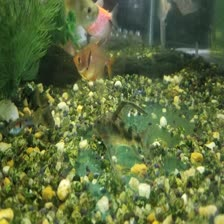Guppy: (0, 103, 44, 138), (61, 0, 95, 26)
Kiros: (92, 97, 164, 153)
Transparente: (65, 40, 117, 81)
